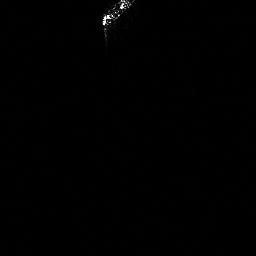ship: (97, 1, 136, 29)
